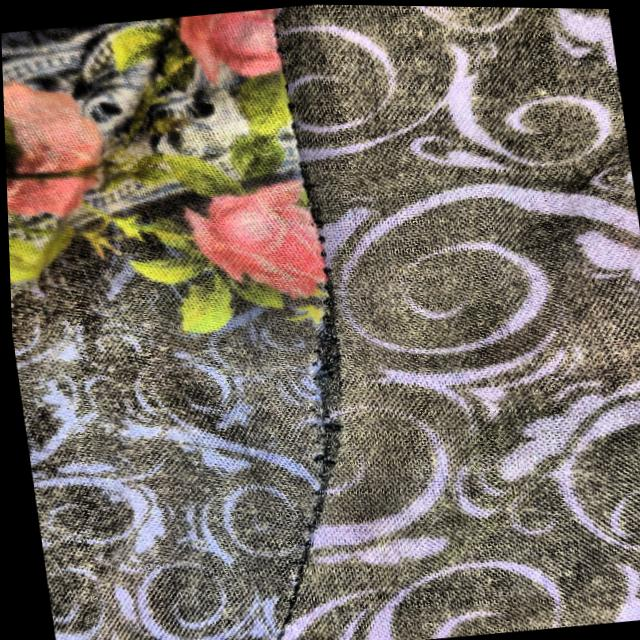seam: (236, 235, 407, 527)
